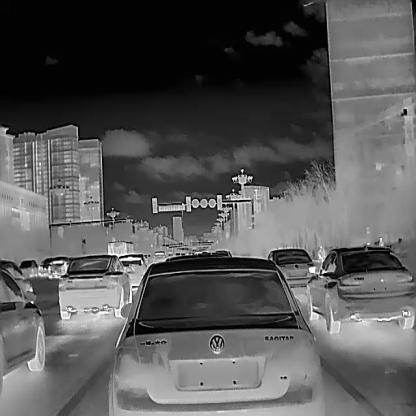bus: (106, 240, 134, 259)
car: (107, 254, 325, 416), (303, 245, 415, 333), (0, 265, 44, 396), (58, 254, 132, 318), (267, 247, 315, 297), (118, 253, 147, 290), (47, 256, 66, 279), (18, 259, 38, 276), (152, 250, 165, 265)
